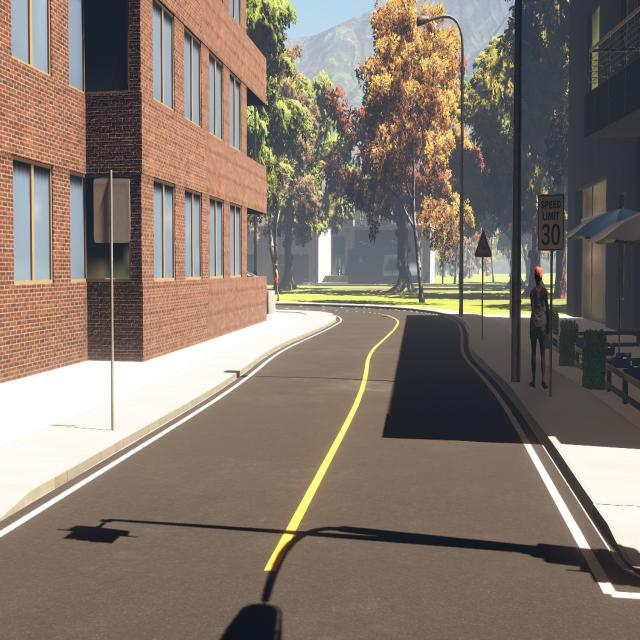speedLimit30: (538, 194, 564, 250)
